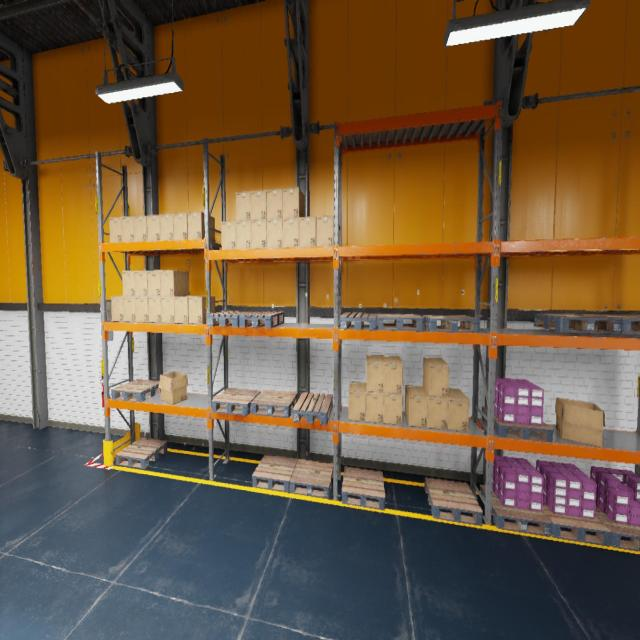box: (555, 397, 605, 447), (423, 386, 448, 430), (423, 357, 449, 398), (158, 370, 188, 404), (405, 385, 428, 428), (448, 388, 469, 432), (187, 212, 215, 242), (188, 296, 215, 324), (160, 270, 189, 296), (383, 356, 402, 394), (348, 382, 366, 421), (366, 354, 384, 392), (282, 187, 304, 218), (174, 296, 198, 324), (384, 393, 402, 425), (316, 215, 334, 247), (366, 392, 384, 423), (300, 216, 316, 247), (283, 218, 299, 248), (266, 219, 282, 248), (267, 188, 282, 218), (251, 190, 266, 220), (251, 220, 267, 248), (236, 220, 251, 249), (221, 221, 236, 250), (173, 212, 188, 240), (236, 191, 250, 220), (160, 213, 174, 240), (161, 297, 175, 323), (147, 270, 161, 296), (134, 270, 148, 296), (147, 214, 160, 241), (148, 296, 161, 322), (123, 296, 136, 322), (122, 270, 135, 296), (134, 215, 147, 241), (121, 216, 134, 242), (109, 217, 122, 242), (136, 296, 148, 322), (111, 296, 123, 321)
pallets: (480, 484, 551, 537), (542, 502, 611, 546), (424, 477, 483, 526), (482, 407, 553, 442), (595, 506, 640, 551), (342, 466, 385, 511), (534, 313, 621, 334), (252, 454, 298, 492), (290, 459, 333, 499), (115, 437, 167, 469), (251, 389, 298, 418), (212, 388, 260, 416), (293, 392, 332, 425), (111, 379, 160, 402), (422, 314, 479, 332), (589, 314, 640, 334), (377, 314, 424, 332), (207, 311, 255, 327), (239, 311, 284, 328), (340, 312, 377, 330)
